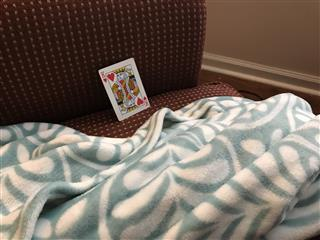KingOfHearts: (97, 56, 151, 121)
